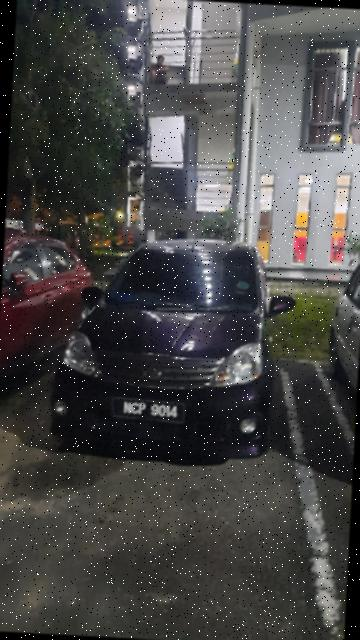License_Plate: (111, 396, 189, 423)
car: (51, 231, 299, 465)
